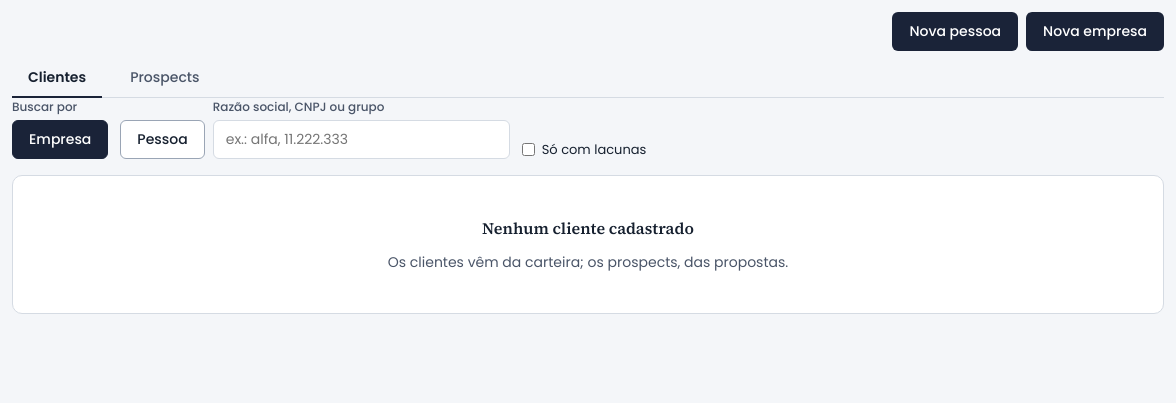
Test: Contatos — clientes e prospects separados › sem resultado por causa do filtro é diferente de não haver ninguém
Expected: the heading "Nenhum cliente cadastrado" is shown, [482,216,694,240]
Step 1. Type "zzz" into the field labelled "Razão social, CNPJ ou grupo" → (361, 140), box [213,120,510,159]
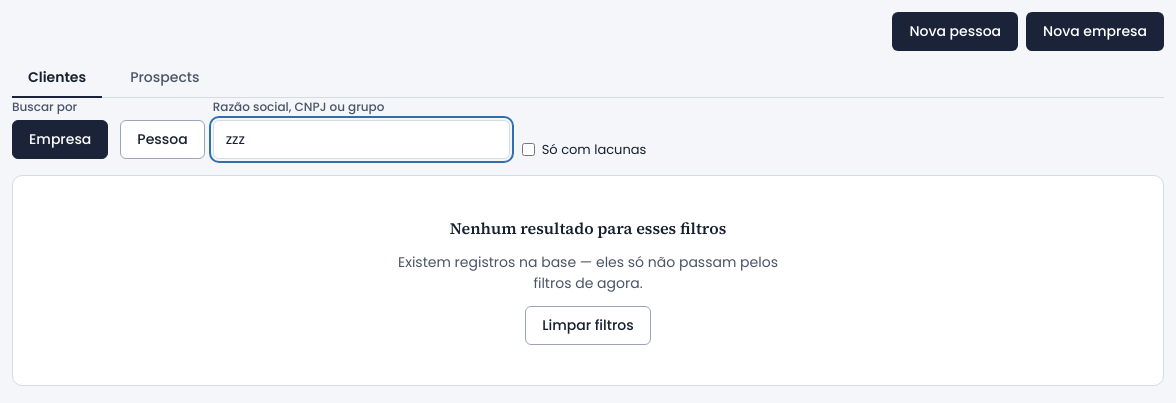
Result: the heading "Nenhum resultado para esses filtros" is shown at [450,216,726,240]
